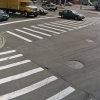Crosswalk: (7, 18, 79, 46)
